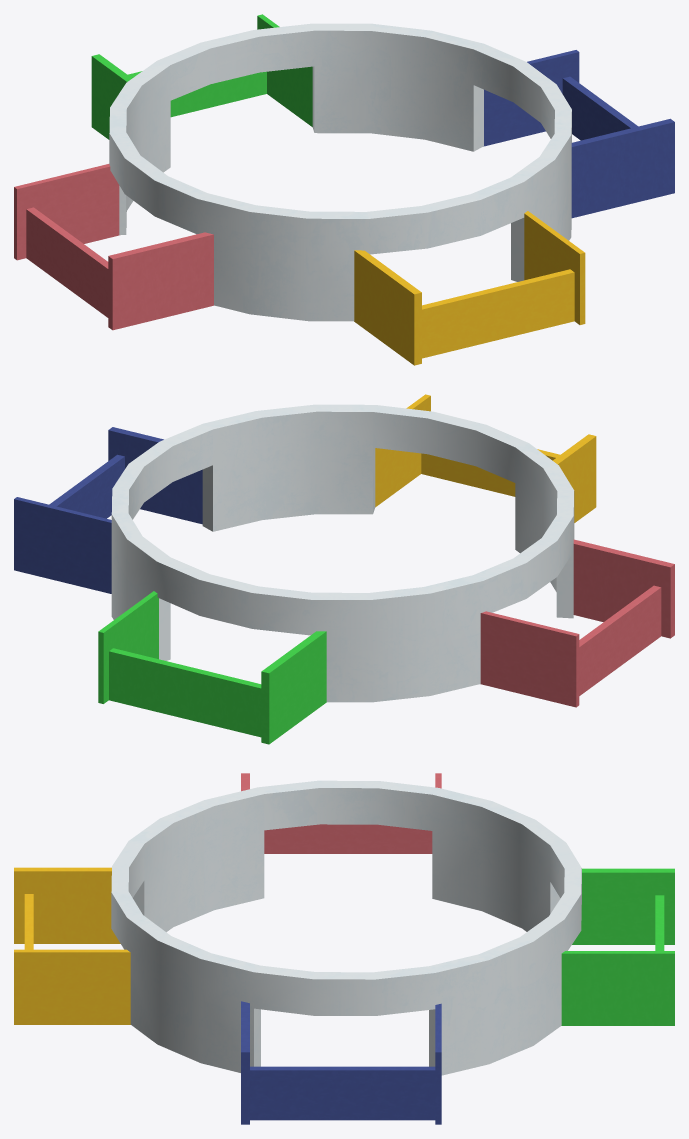
The model's file is Arena.fbx.
3 renders of one model, top to bottom at view 1: azimuth 30°, elevation 25°; view 2: azimuth 150°, elevation 25°; view 3: azimuth 270°, elevation 25°, orthographic.
Parts seen in each view (by area): view 1: Arena; view 2: Arena; view 3: Arena.
Part boxes in pixels (left/top/right/bottom): Arena: left=14, top=14, right=674, bottom=365; Arena: left=14, top=394, right=674, bottom=744; Arena: left=14, top=773, right=674, bottom=1124.
Bounding box in the file's own units: 226 × 226 × 39.37.
